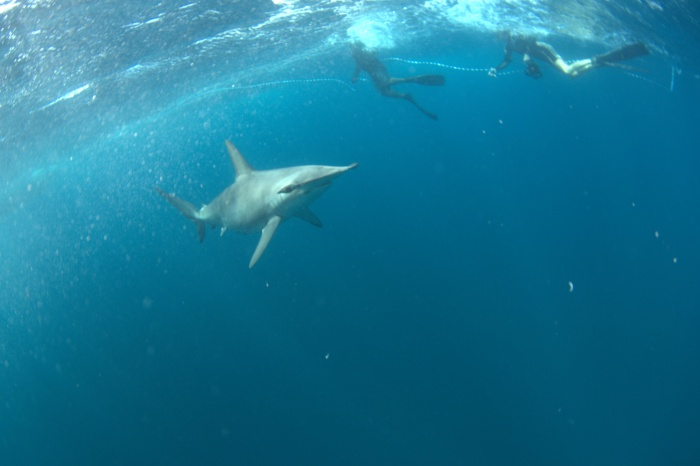Hammer: (139, 122, 394, 278)
